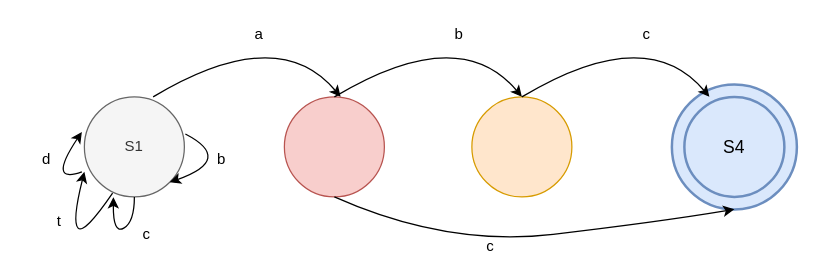
Some shapes in this 819 by 280 pixel diagram are drawn without their labels. Here are the shapes that lost their labels. From the top down, the box of each, then its label:
(283, 96, 384, 197): S2
(471, 96, 572, 197): S3
